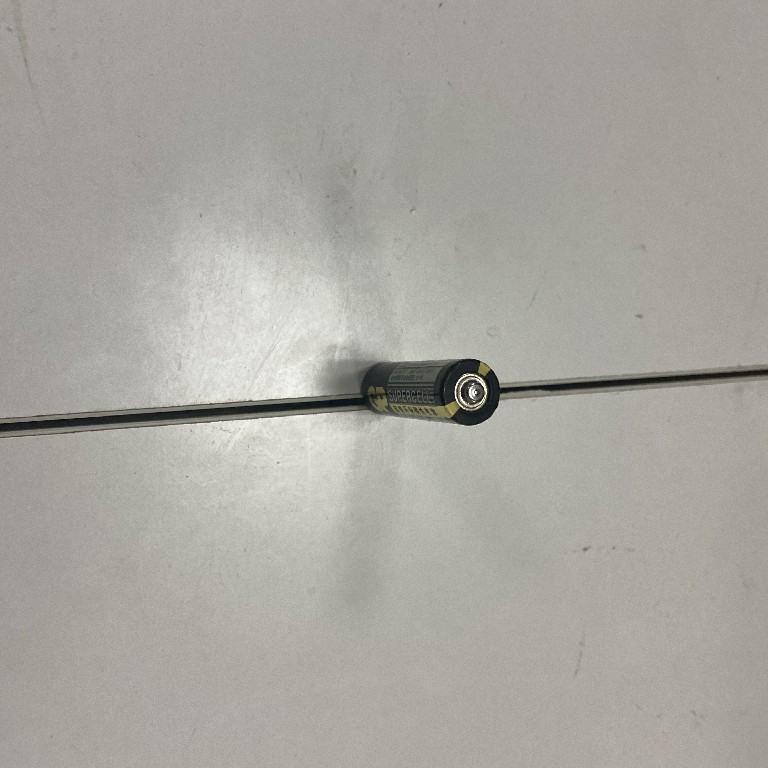charge: (356, 356, 507, 428)
